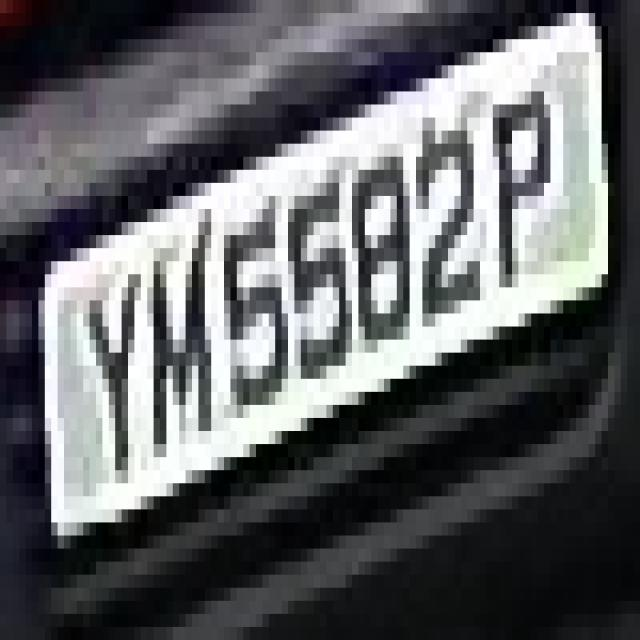2: (384, 78, 486, 326)
5: (256, 170, 358, 470), (211, 170, 288, 431)
8: (333, 104, 416, 379)
M: (128, 235, 205, 470)
P: (486, 39, 564, 327)
Y: (70, 222, 160, 509)
